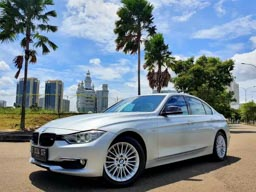plat: (28, 146, 48, 164)
